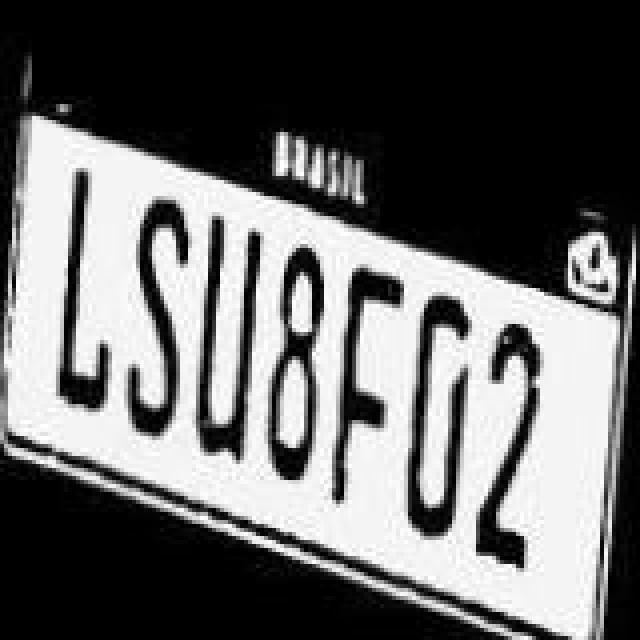2: (474, 320, 546, 572)
8: (262, 240, 330, 480)
D: (402, 298, 478, 546)
F: (324, 268, 404, 508)
L: (50, 156, 118, 432)
S: (118, 186, 194, 442)
U: (202, 210, 270, 466)
